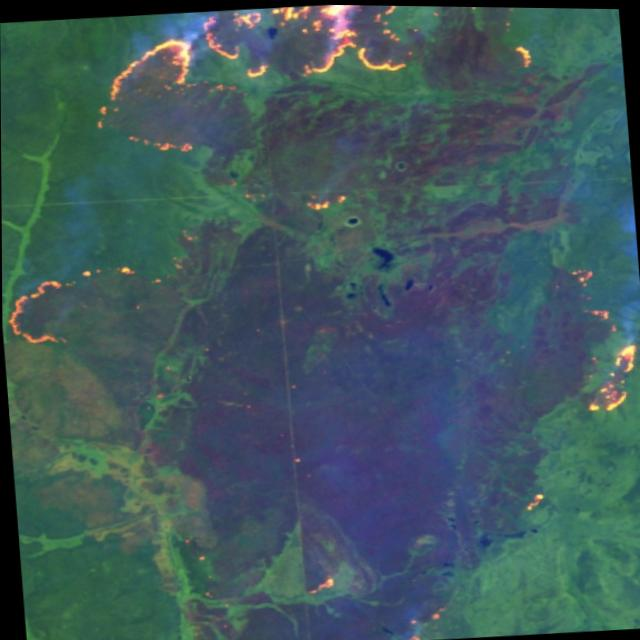fire: (85, 1, 545, 168), (1, 246, 149, 352), (560, 254, 640, 428)
